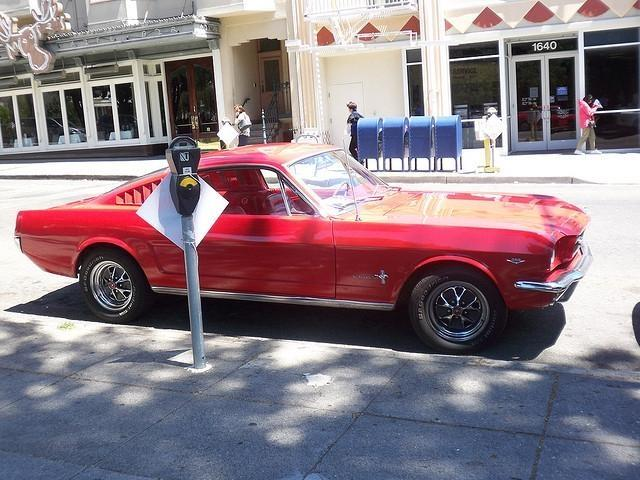car: (16, 142, 595, 354)
